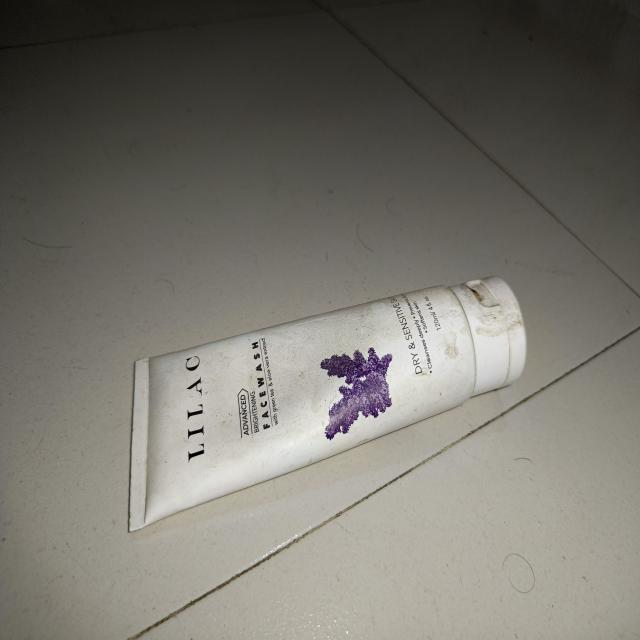Squeeze Tube: (125, 271, 533, 536)
